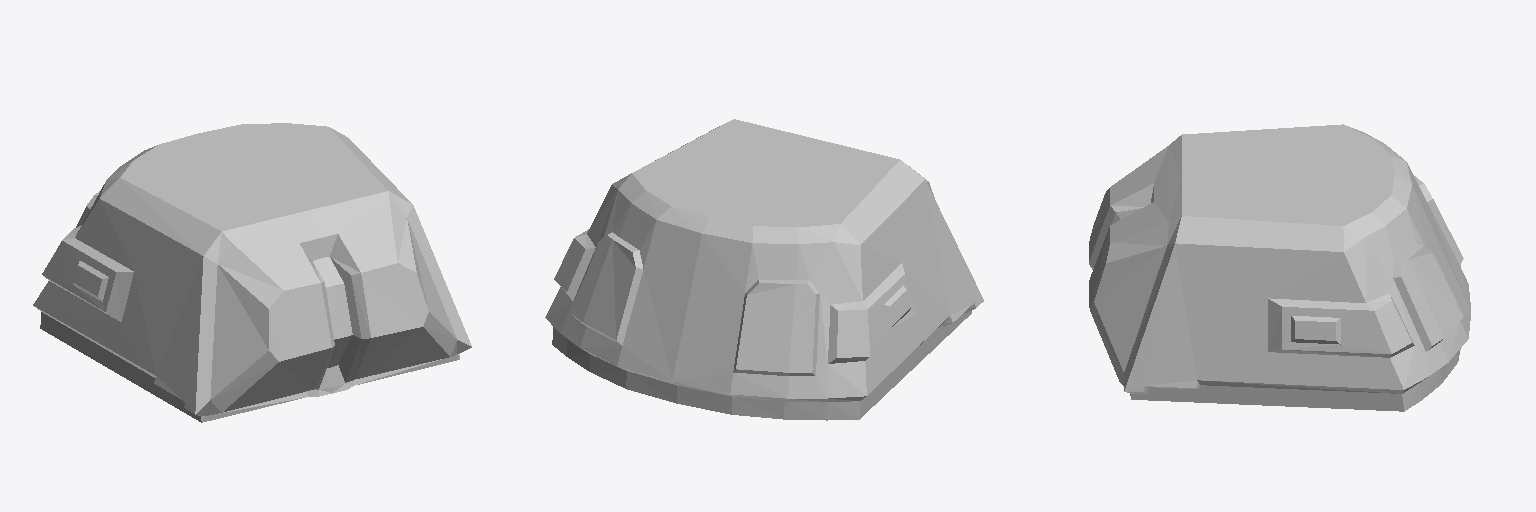
The model's file is CruiserGun.obj.
The picture shows the model from 3 angles: view 1: azimuth 30°, elevation 25°; view 2: azimuth 150°, elevation 25°; view 3: azimuth 270°, elevation 25°; orthographic projection.
Visible parts, largest first — view 1: Tai_HeavyCruiserGun; view 2: Tai_HeavyCruiserGun; view 3: Tai_HeavyCruiserGun.
Boxes of the visible parts, box(x1,y1,x2,y2) form: Tai_HeavyCruiserGun: box(33, 123, 471, 422); Tai_HeavyCruiserGun: box(545, 119, 983, 420); Tai_HeavyCruiserGun: box(1089, 124, 1470, 411).
Bounding box in the file's own units: 42.89 × 20.56 × 44.17.